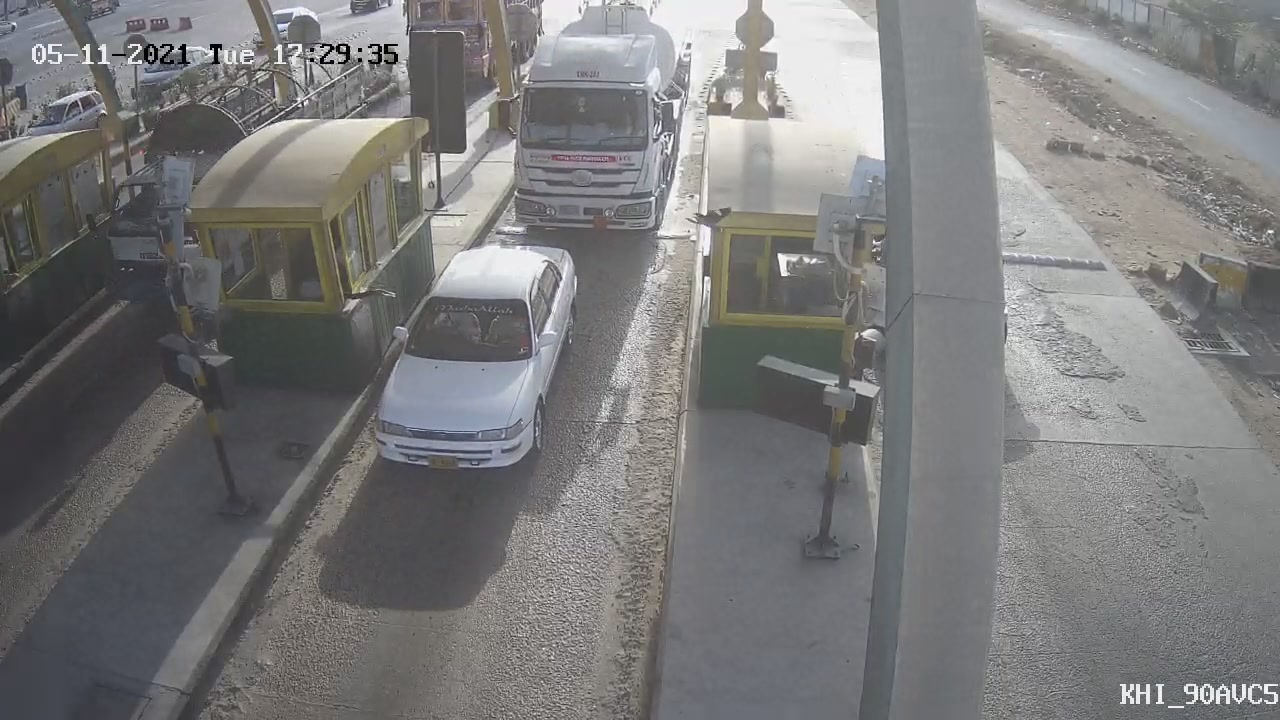F1: (355, 226, 607, 493)
